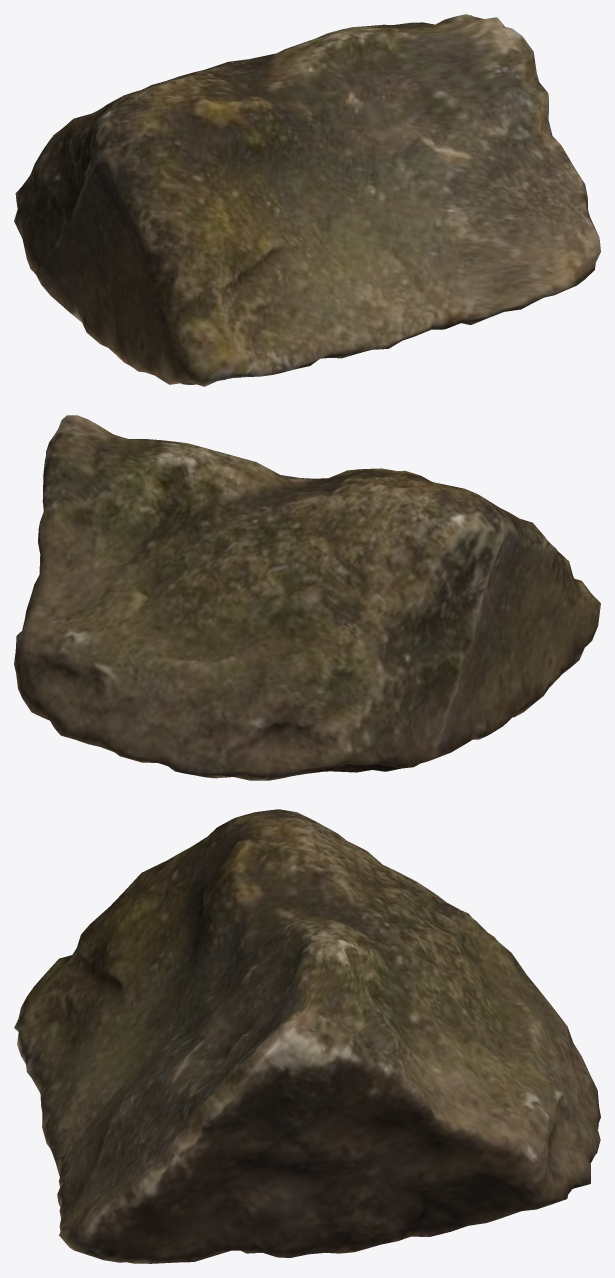
Rendered from rock_moss_set_01.glb.
3 renders of one model, top to bottom at view 1: azimuth 30°, elevation 25°; view 2: azimuth 150°, elevation 25°; view 3: azimuth 270°, elevation 25°, orthographic. The views are drawn at different scales.
Visible parts, largest first — view 1: rock_moss_set_01; view 2: rock_moss_set_01; view 3: rock_moss_set_01.
Boxes of the visible parts, left/top/right/bottom form: rock_moss_set_01: left=14, top=14, right=600, bottom=386; rock_moss_set_01: left=14, top=415, right=600, bottom=780; rock_moss_set_01: left=14, top=809, right=600, bottom=1263.
Size of the model in its own units: 2.11 by 1.1 by 2.08.
Materials: 1 (1 with a texture image).
